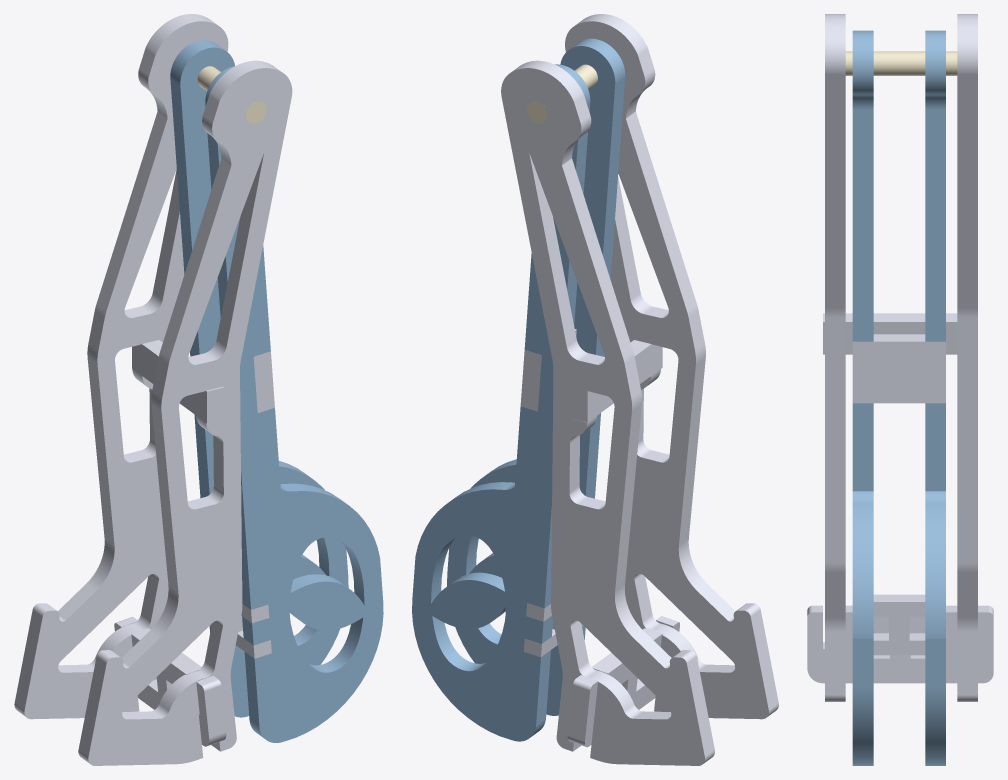
Rendered from hopper.glb.
3 views of the same model, side by side, from view 1: azimuth 30°, elevation 25°; view 2: azimuth 150°, elevation 25°; view 3: azimuth 270°, elevation 25° (orthographic). The views are drawn at different scales.
Parts seen in each view (by area): view 1: bottom leg redesign-1 (×2), top leg redesign-2 (×2), top 'H'ish part-1, occurrence of Default, Part 1, H part-2, dowel-1; view 2: bottom leg redesign-1 (×2), top leg redesign-2 (×2), top 'H'ish part-1, occurrence of Default, Part 1, H part-2, dowel-1; view 3: top leg redesign-2 (×2), bottom leg redesign-1 (×2), Part 1, top 'H'ish part-1, H part-2, occurrence of Default, dowel-1.
Part boxes in pixels (x1,y1,x2,y2): bottom leg redesign-1 (×2): [14, 14, 292, 765]; top leg redesign-2 (×2): [170, 40, 383, 742]; top 'H'ish part-1: [114, 617, 226, 746]; occurrence of Default: [132, 340, 223, 423]; Part 1: [253, 351, 274, 412]; H part-2: [210, 604, 271, 658]; dowel-1: [197, 66, 266, 123]; bottom leg redesign-1 (×2): [501, 14, 778, 765]; top leg redesign-2 (×2): [412, 38, 625, 741]; top 'H'ish part-1: [567, 616, 679, 747]; occurrence of Default: [570, 340, 662, 422]; Part 1: [520, 329, 576, 411]; H part-2: [523, 603, 583, 657]; dowel-1: [527, 64, 597, 123]; top leg redesign-2 (×2): [852, 30, 945, 765]; bottom leg redesign-1 (×2): [825, 14, 977, 701]; Part 1: [852, 334, 945, 403]; top 'H'ish part-1: [807, 605, 993, 683]; H part-2: [873, 594, 925, 655]; occurrence of Default: [823, 313, 957, 354]; dowel-1: [845, 51, 957, 75].
Bounding box in the file's own units: 0.0713 × 0.1529 × 0.036.
